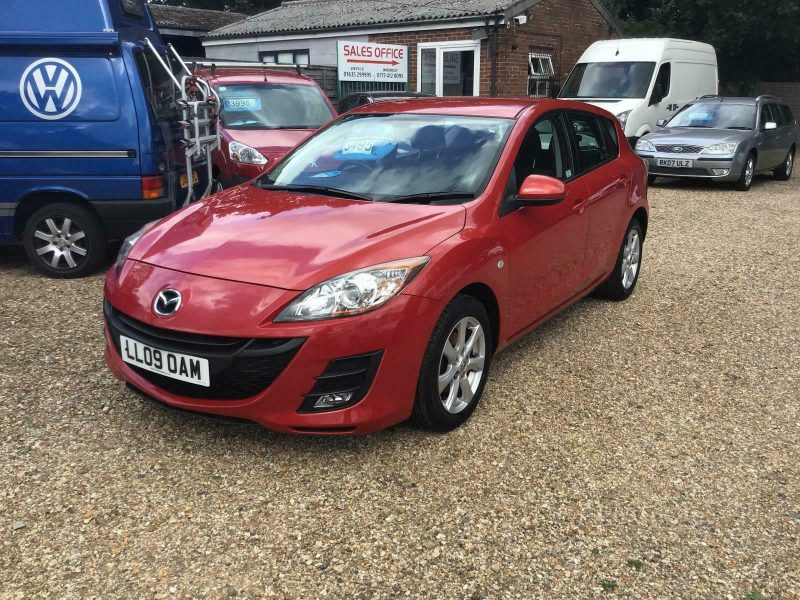Mazda3 Hatchback: (101, 95, 651, 438)
